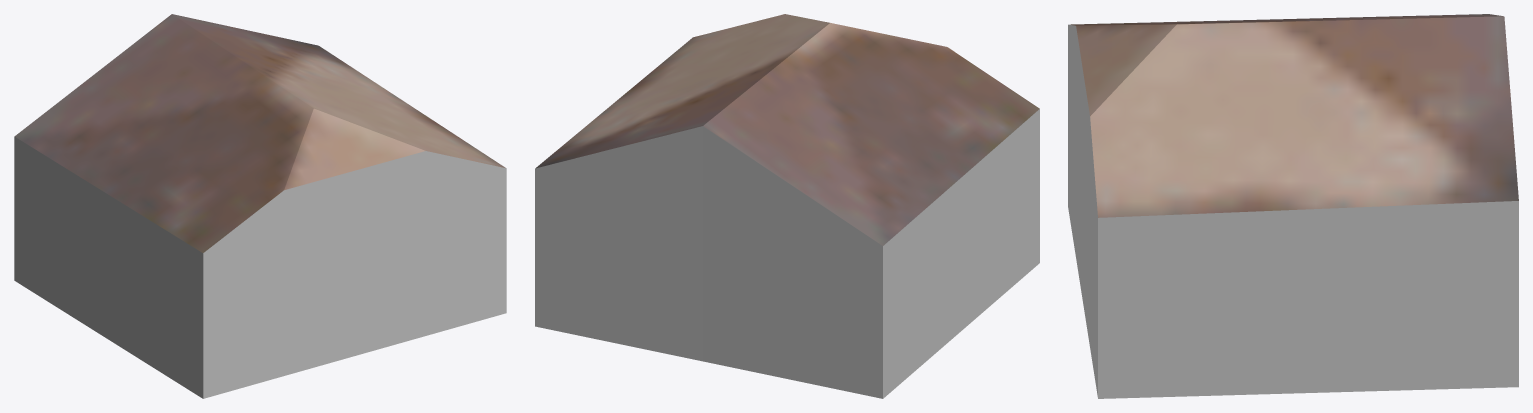
Rendered from DEBW_0010007Txds.gltf.
3 renders of one model, left to right at view 1: azimuth 30°, elevation 25°; view 2: azimuth 150°, elevation 25°; view 3: azimuth 270°, elevation 25°, orthographic. The views are drawn at different scales.
Visible parts, largest first — view 1: Z_UP; view 2: Z_UP; view 3: Z_UP.
Part boxes in pixels (x1,y1,x2,y2): Z_UP: (14, 14, 506, 398); Z_UP: (535, 14, 1039, 398); Z_UP: (1068, 14, 1518, 398).
Bounding box in the file's own units: 6.93 × 4.38 × 6.45.
2 materials, 1 textured.
